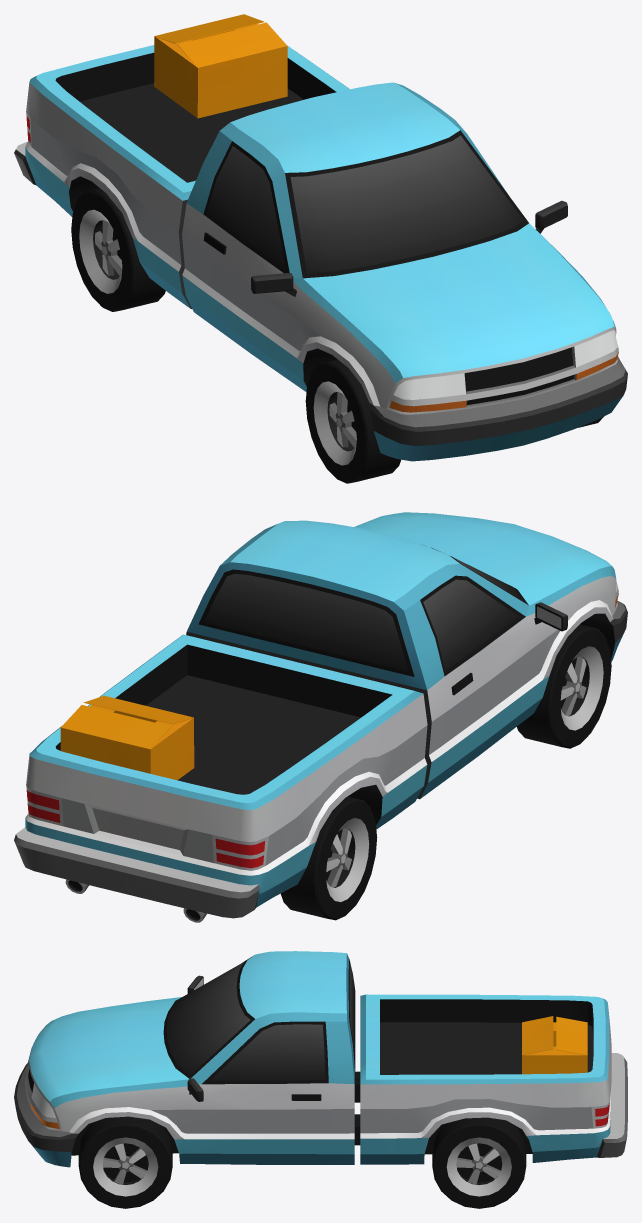
File: Truck.fbx
3 views of the same model, one above another, from view 1: azimuth 30°, elevation 25°; view 2: azimuth 150°, elevation 25°; view 3: azimuth 270°, elevation 25° (orthographic). The views are drawn at different scales.
Visible parts, largest first — view 1: Truck_Devlivery, Delivery Box, Wheel_FR, Wheel_RR; view 2: Truck_Devlivery, Delivery Box, Wheel_RR, Wheel_FR; view 3: Truck_Devlivery, Wheel_FL, Wheel_RL, Delivery Box.
Boxes of the visible parts, bbox=[...] form: Truck_Devlivery: bbox=[14, 45, 627, 461]; Delivery Box: bbox=[154, 14, 287, 118]; Wheel_FR: bbox=[305, 359, 400, 483]; Wheel_RR: bbox=[71, 188, 165, 311]; Truck_Devlivery: bbox=[14, 512, 627, 922]; Delivery Box: bbox=[60, 695, 194, 780]; Wheel_RR: bbox=[280, 796, 377, 920]; Wheel_FR: bbox=[517, 624, 611, 748]; Truck_Devlivery: bbox=[14, 951, 627, 1167]; Wheel_FL: bbox=[78, 1116, 172, 1208]; Wheel_RL: bbox=[432, 1117, 526, 1208]; Delivery Box: bbox=[522, 1016, 587, 1074].
Bounding box in the file's own units: 138 × 103 × 308.
Materials: 1 (1 with a texture image).
